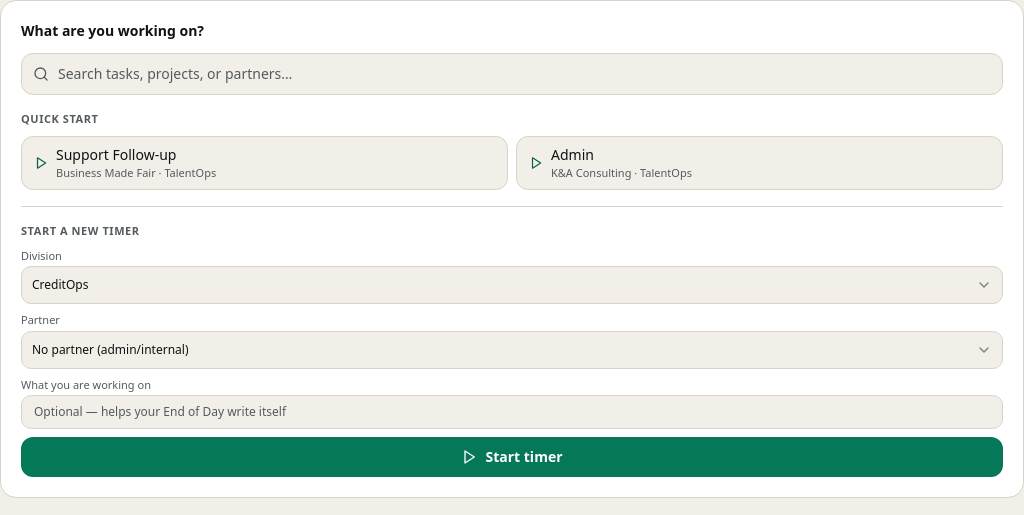
starting work › filters what it offers, including by partner
In the field named "Search your recent work": (512, 74) left=21, top=53, right=1003, bottom=95, type "K&A"
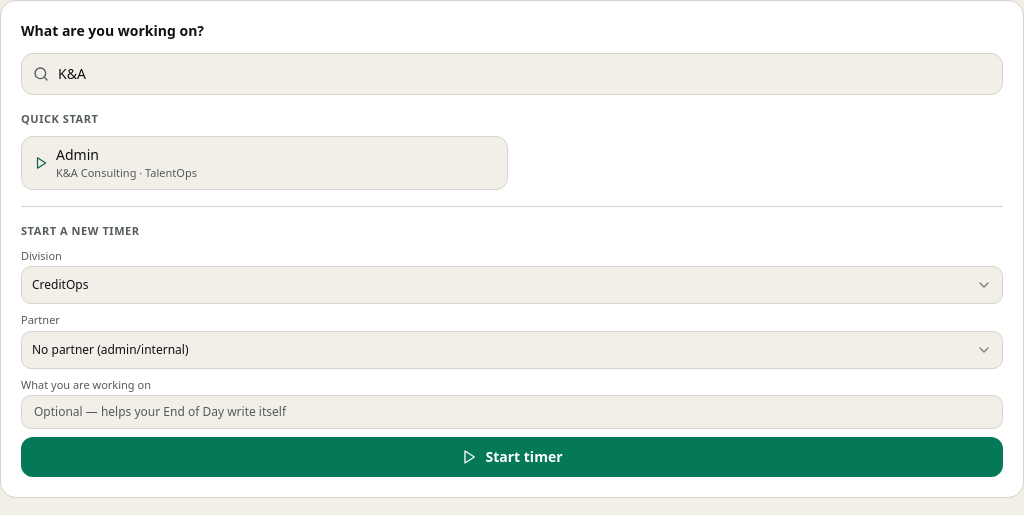
Expected: the text "Admin" is shown, left=56, top=144, right=99, bottom=164
Expected: the button "Support Follow-up" is gone
